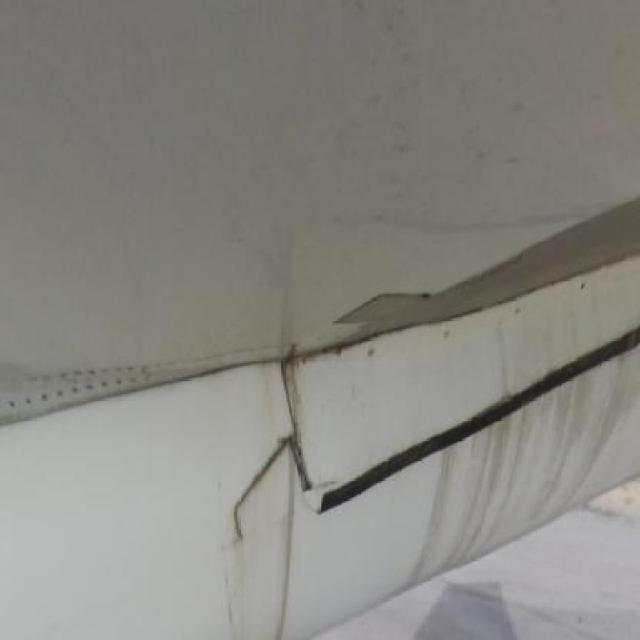Missing-Rivet: (4, 360, 167, 425)
Rust: (394, 321, 640, 565), (229, 315, 313, 640)
